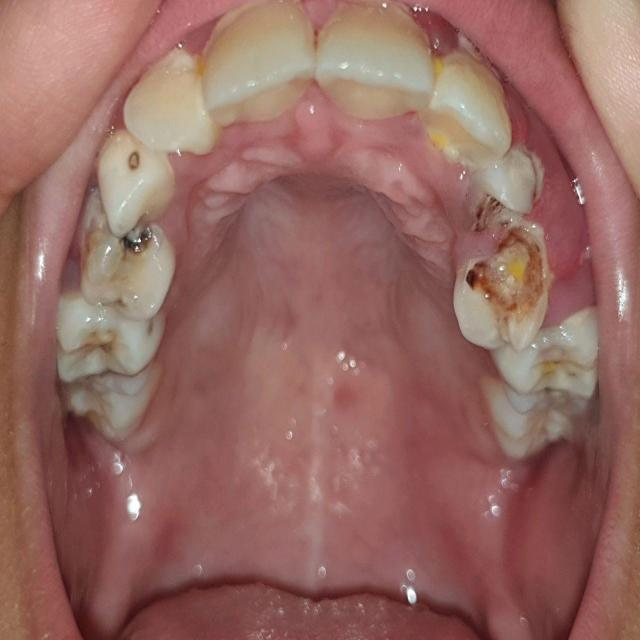caries: (453, 227, 553, 350), (76, 200, 176, 317), (58, 297, 164, 382), (502, 311, 603, 399), (102, 130, 176, 232), (465, 152, 547, 233), (62, 375, 144, 435)
